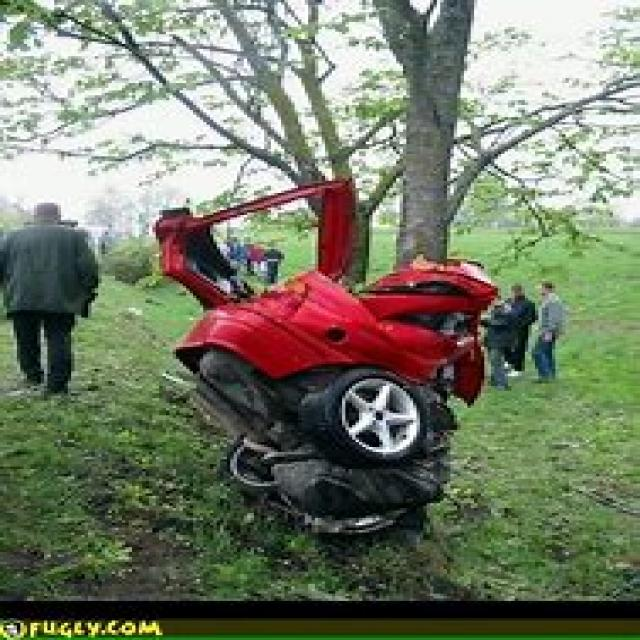Accident: (81, 149, 590, 551)
